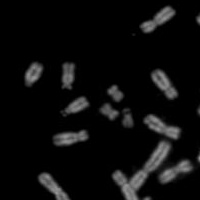chromosome: (124, 139, 171, 200), (38, 172, 76, 200), (140, 5, 174, 33), (145, 113, 180, 139), (150, 69, 178, 100), (159, 159, 193, 184), (111, 170, 138, 200), (60, 96, 90, 118), (53, 129, 88, 147), (23, 62, 42, 88), (60, 62, 75, 91), (100, 103, 117, 120), (121, 109, 134, 129), (109, 83, 123, 101), (196, 101, 200, 146), (196, 10, 200, 32), (129, 197, 157, 200), (197, 148, 200, 163)
